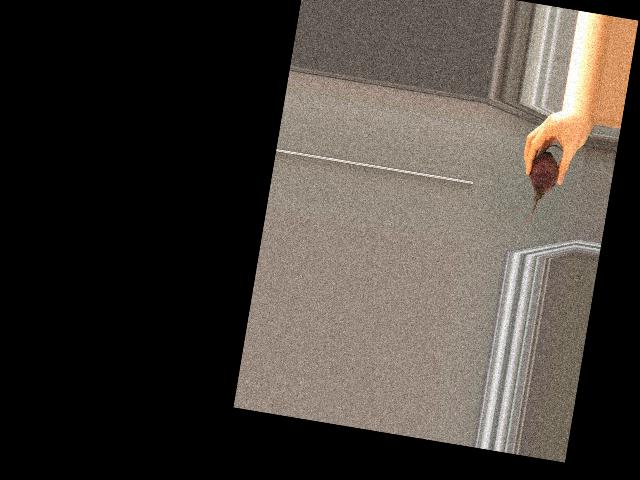beet: (521, 142, 563, 233)
